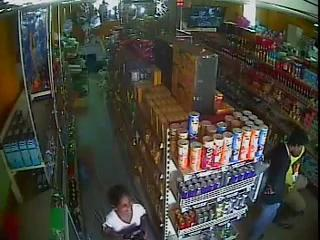Normal: (242, 132, 318, 240), (101, 184, 158, 240)
